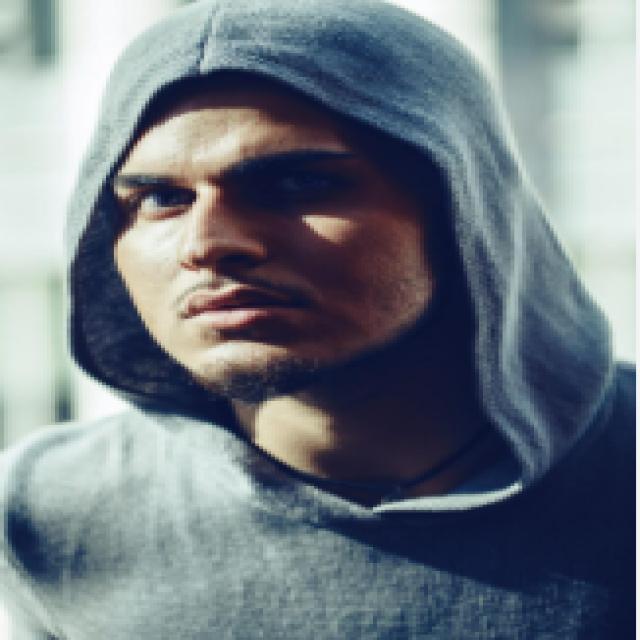4_capucha: (58, 0, 614, 513)
